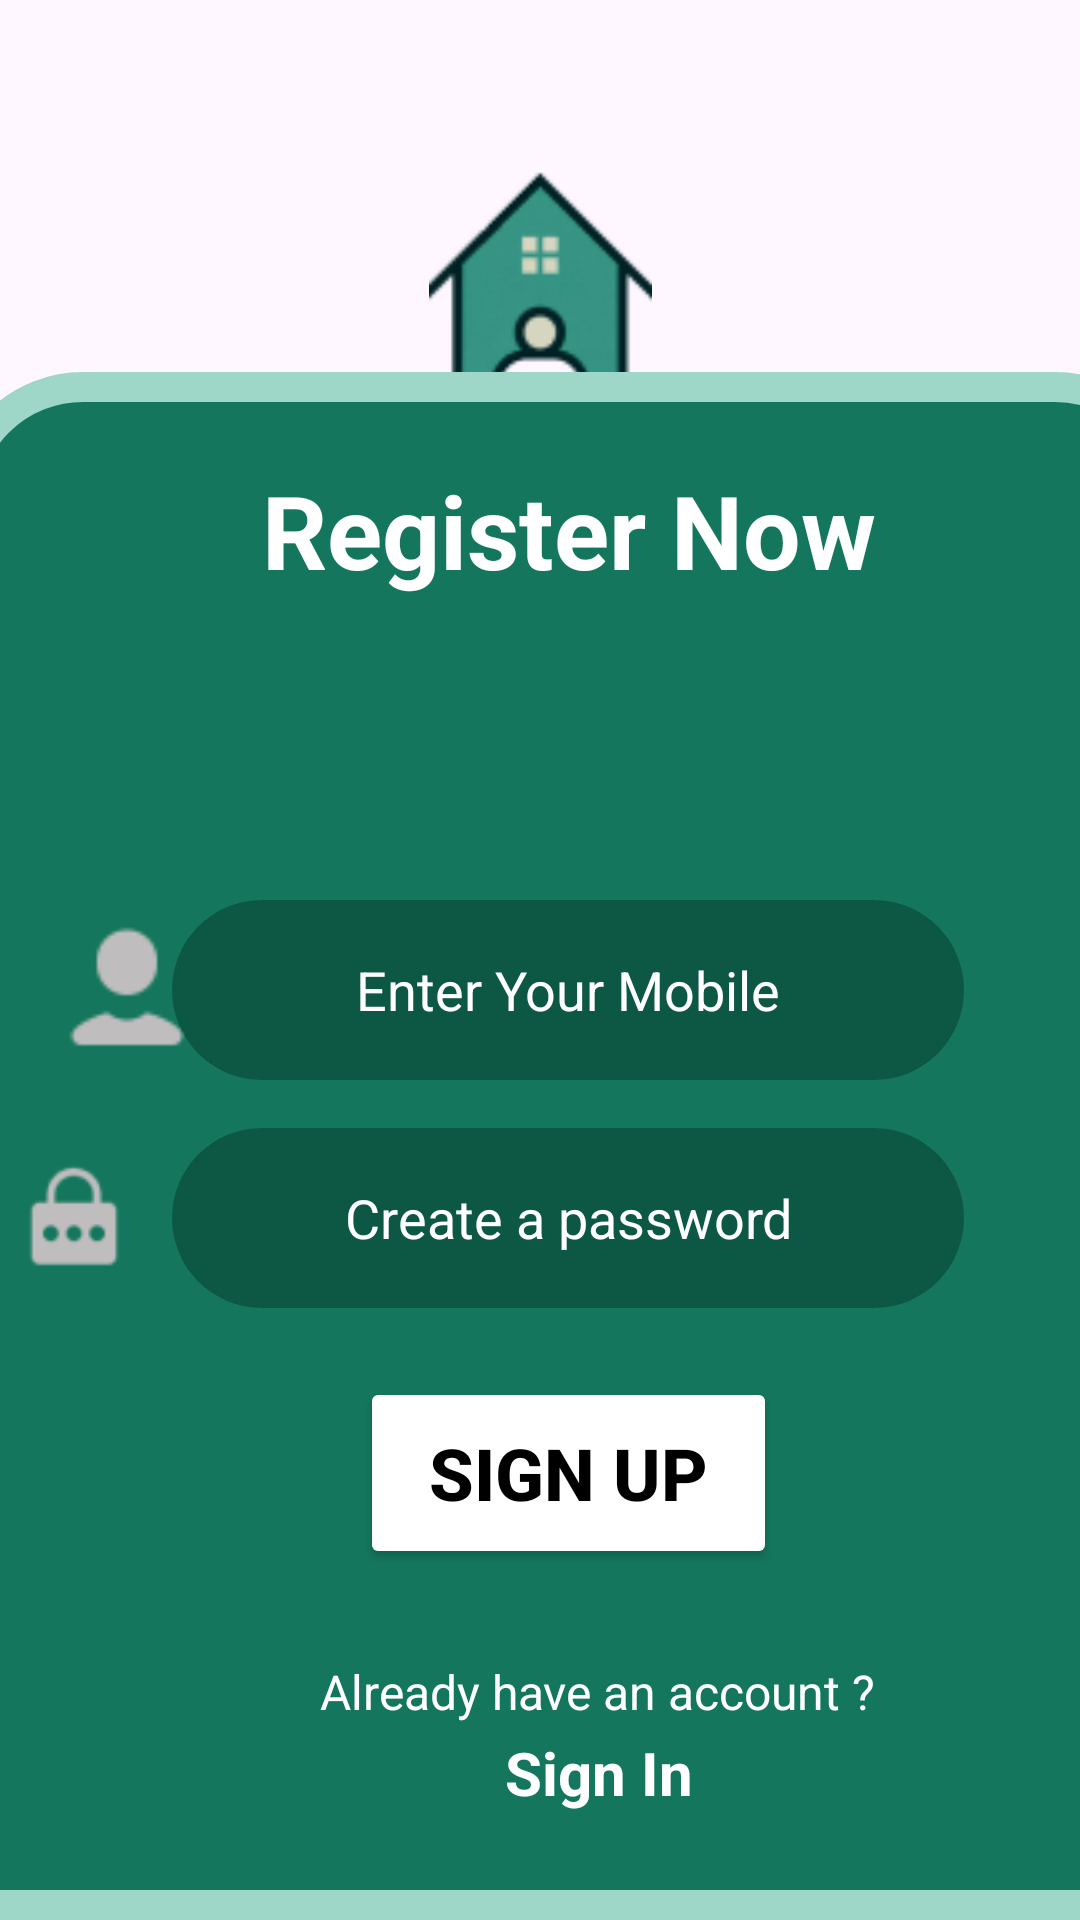

Named icons in this screenshot (1080x1920) and their centers, (x=x, y=y):
home: (x=540, y=286)
username: (x=143, y=990)
